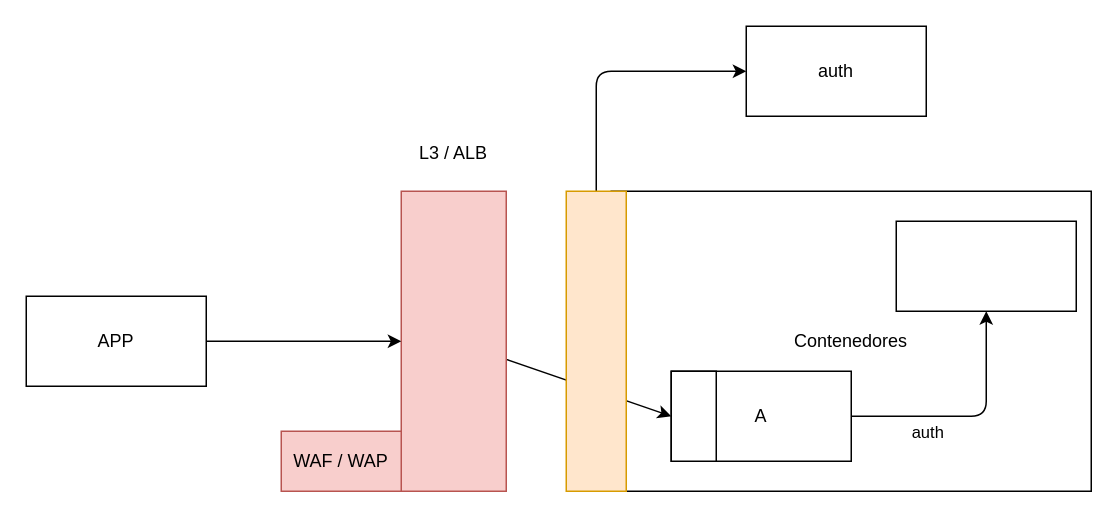
The diagram is 1118 pixels wide and 518 high, and some of its shapes have lost their labels. The centre of each missing label's shape, as x and y in pixels:
"A M" belongs at (x=595, y=340).
"LB" belongs at (x=453, y=340).
"Product Inv" belongs at (x=985, y=265).
